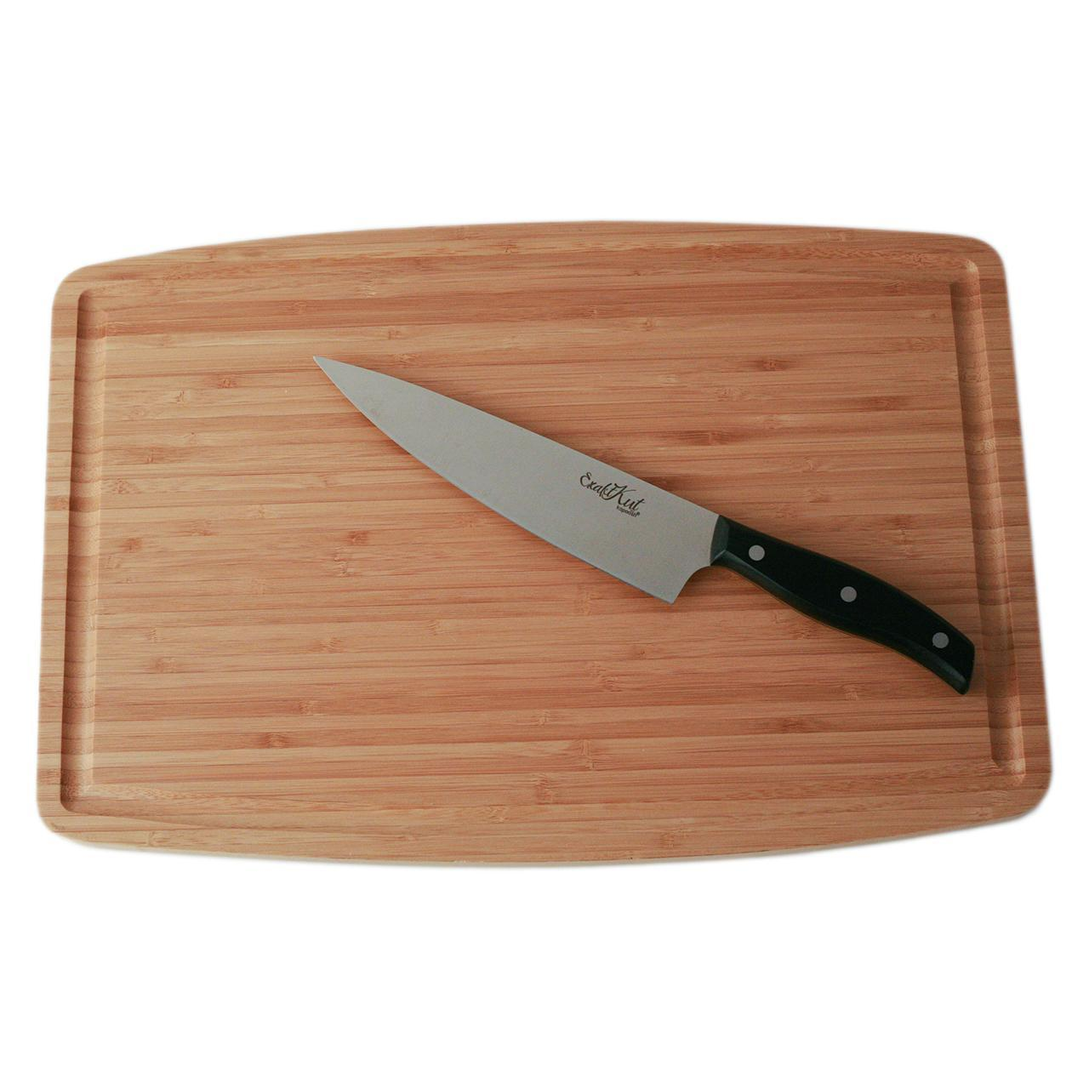gloved_hand: (29, 202, 1060, 873)
